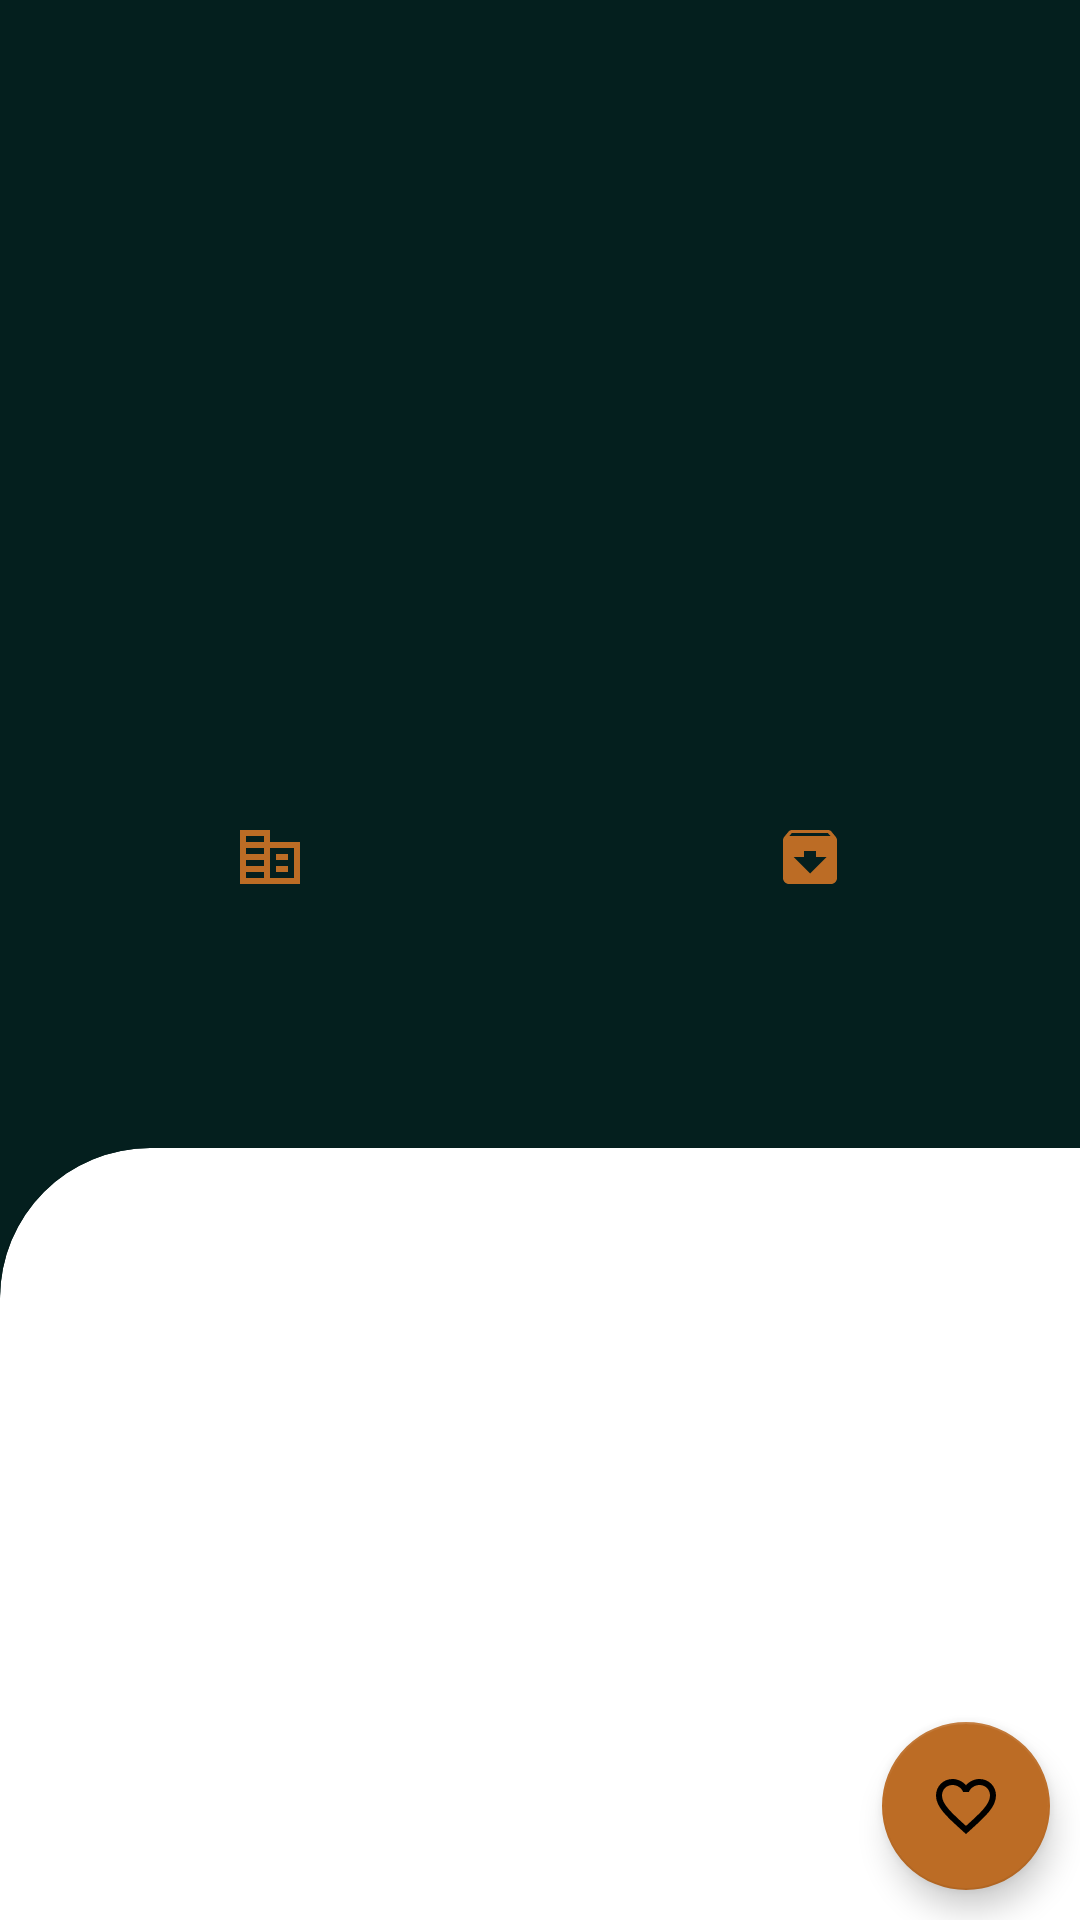

Where icons sit on this 1080×1920 app screen, as (x1=x1, y1=y1, x2=x2, y2=y2):
button favorite: (x1=882, y1=1722, x2=1050, y2=1890)
icon perusahaan: (x1=240, y1=830, x2=300, y2=884)
icon repo: (x1=783, y1=830, x2=837, y2=884)
